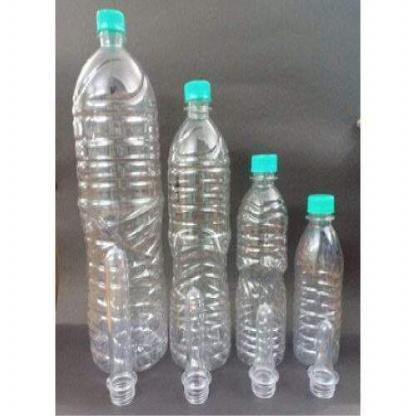plastic_bottle: (69, 7, 170, 373), (164, 73, 239, 374), (231, 145, 297, 371), (290, 184, 351, 376)
